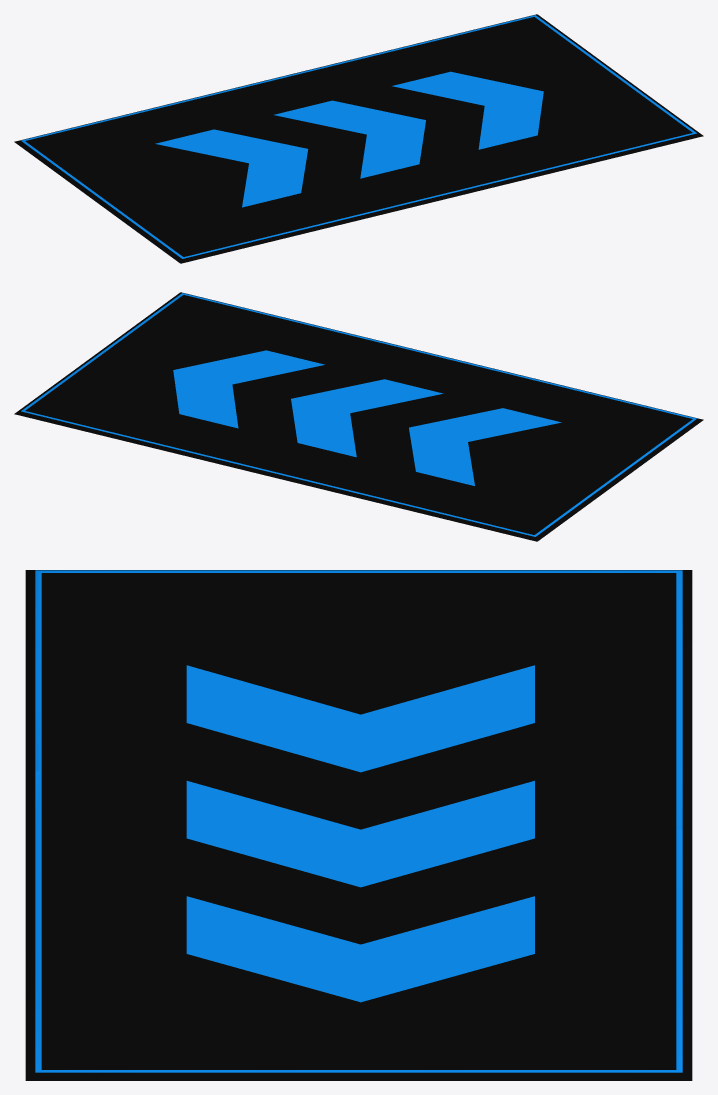
Rendered from Fast move patch.FBX.
The picture shows the model from 3 angles, top to bottom: view 1: azimuth 30°, elevation 25°; view 2: azimuth 150°, elevation 25°; view 3: azimuth 270°, elevation 25°; orthographic projection. The views are drawn at different scales.
Parts seen in each view (by area): view 1: Fast moving patch; view 2: Fast moving patch; view 3: Fast moving patch.
Part boxes in pixels (x1=…): Fast moving patch: x1=14, y1=14, x2=703, y2=263; Fast moving patch: x1=14, y1=292, x2=703, y2=541; Fast moving patch: x1=25, y1=570, x2=692, y2=1080.
Size of the model in its own units: 426 by 1.56 by 235.
